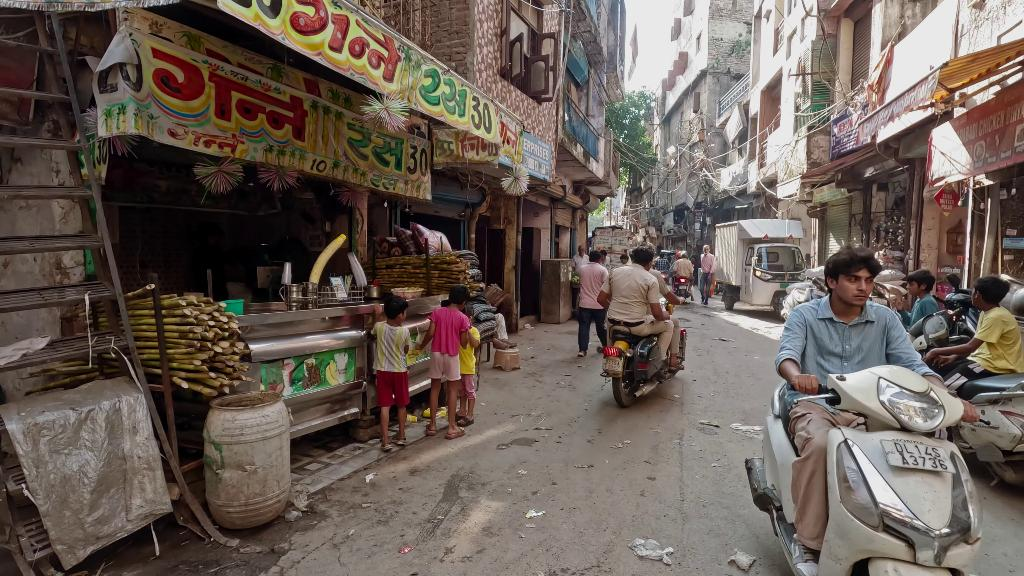dustbin: (203, 389, 297, 531), (627, 536, 674, 568), (727, 548, 758, 573), (726, 422, 765, 440), (399, 544, 416, 555), (525, 324, 536, 329)
